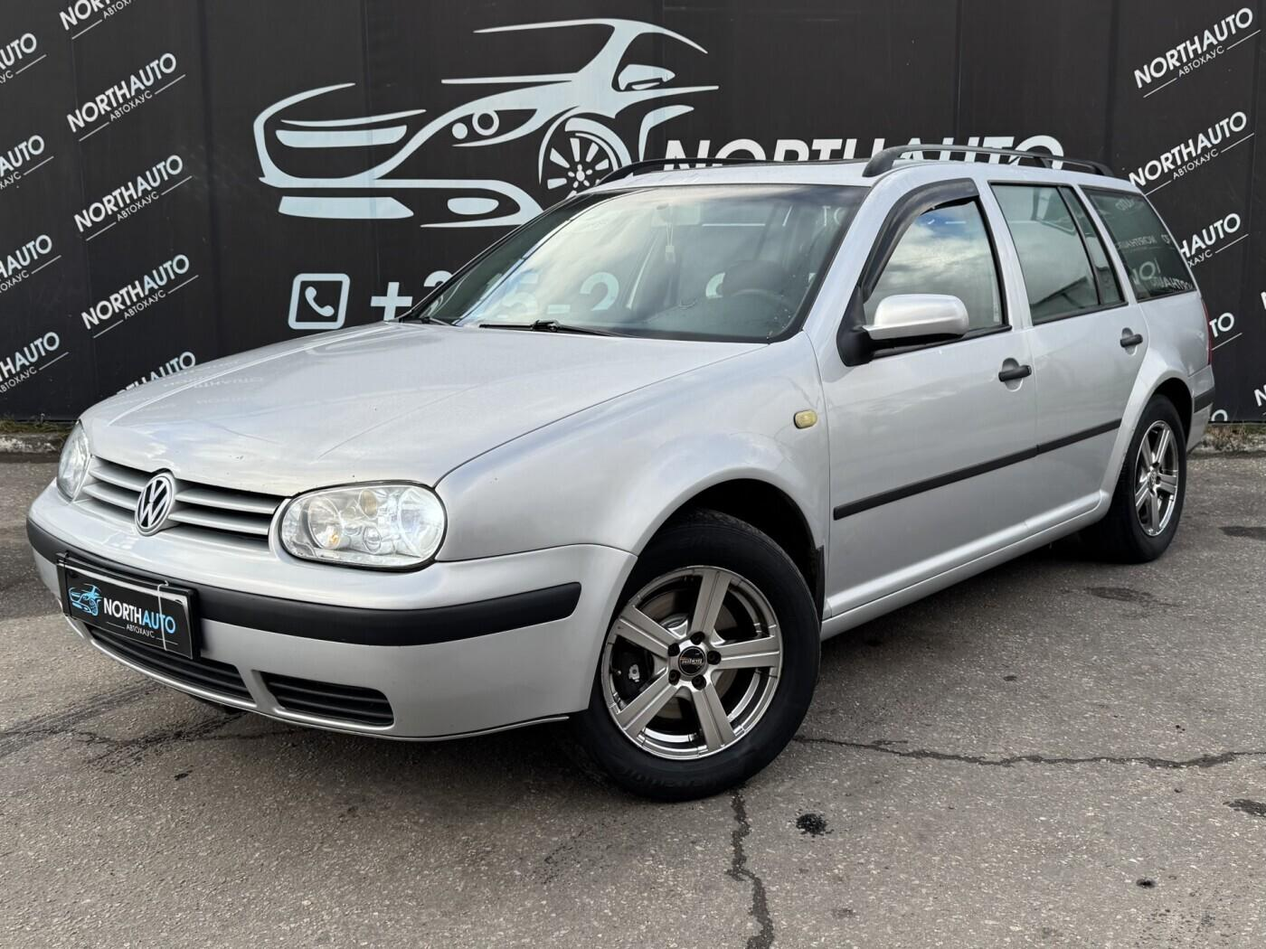Golf_1997-2006: (27, 147, 1220, 795)
